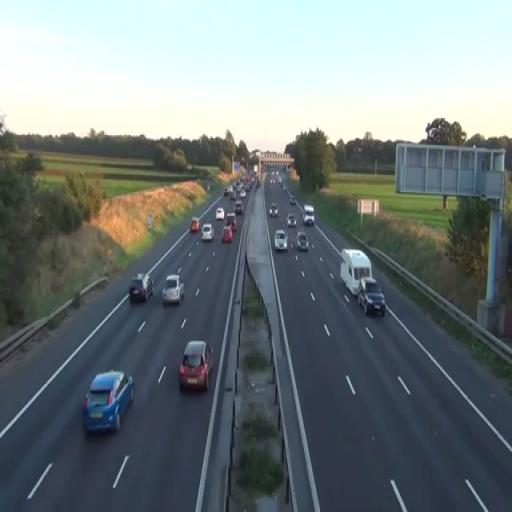Car: (82, 369, 134, 436), (179, 340, 214, 392), (358, 276, 385, 316), (128, 272, 154, 304), (162, 274, 185, 306), (274, 229, 288, 252), (296, 231, 310, 251), (201, 223, 214, 242), (304, 204, 314, 227), (222, 226, 232, 242), (287, 214, 297, 228), (269, 203, 278, 218)
Truck: (340, 248, 372, 295)
